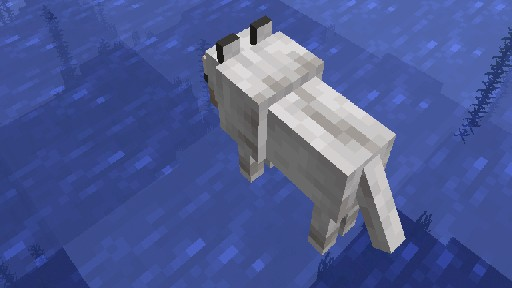wolf: (201, 14, 405, 255)
